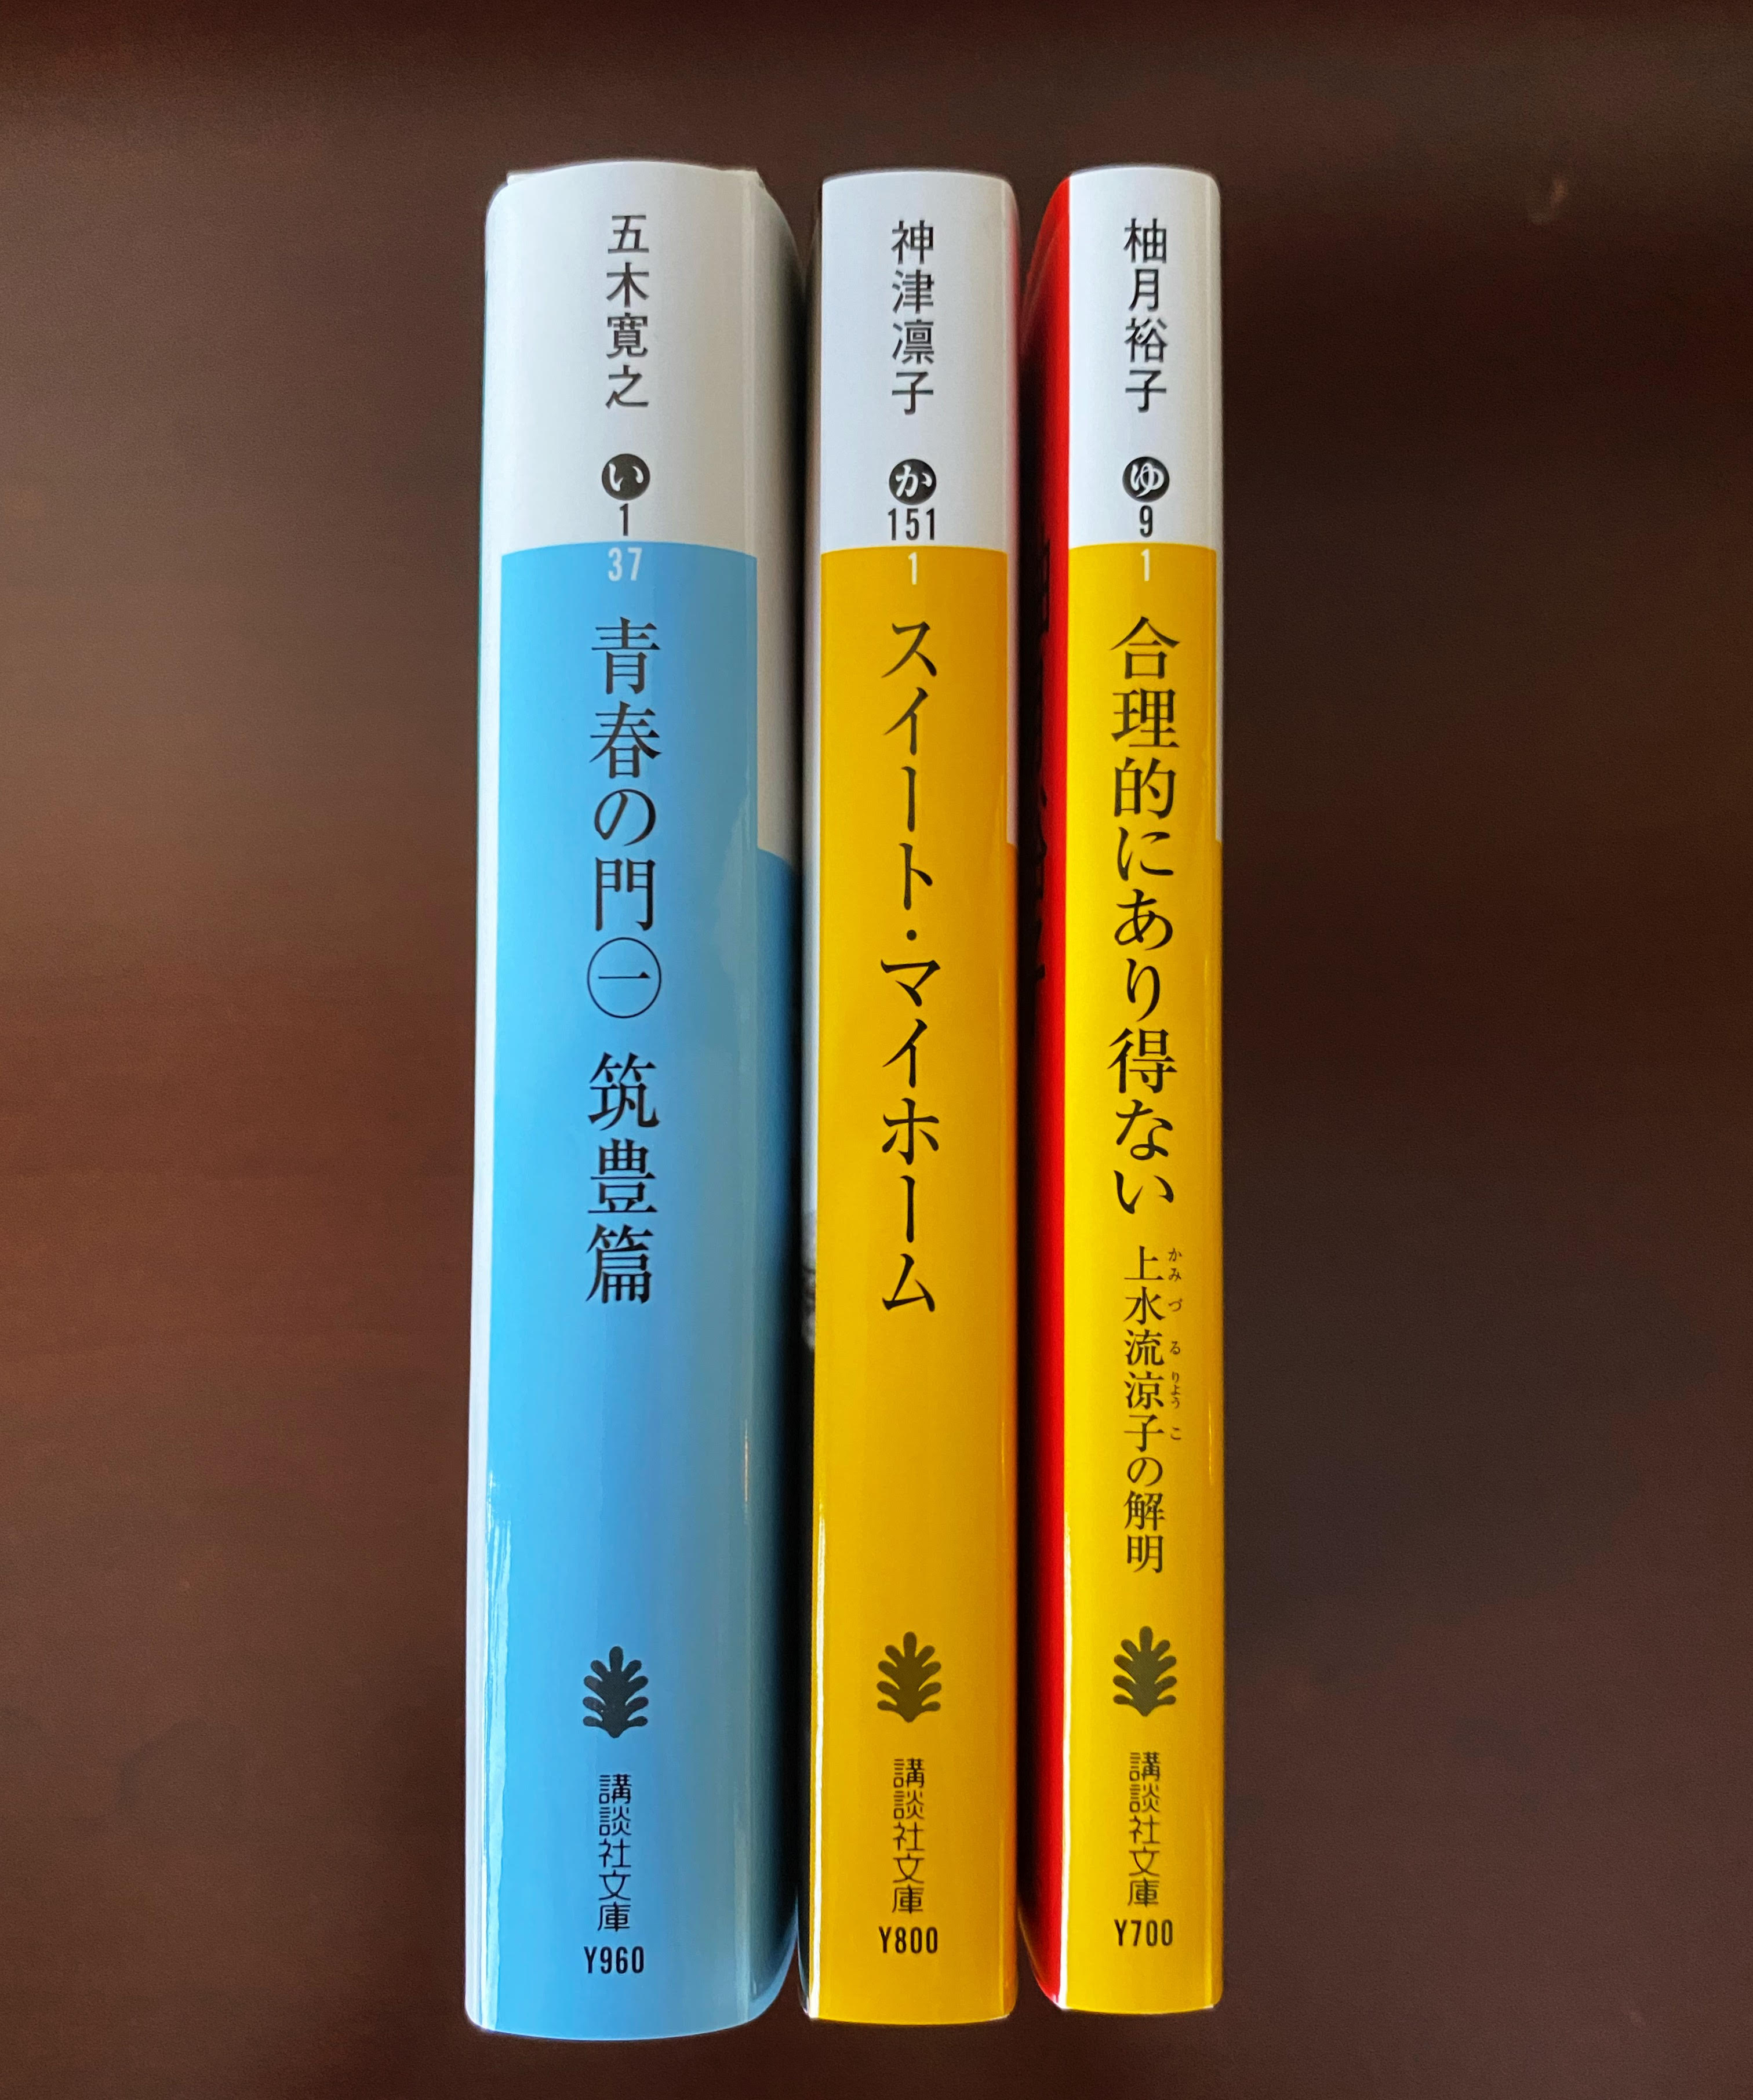book: (476, 145, 781, 2051), (783, 140, 1024, 2039), (1036, 155, 1247, 2025)
